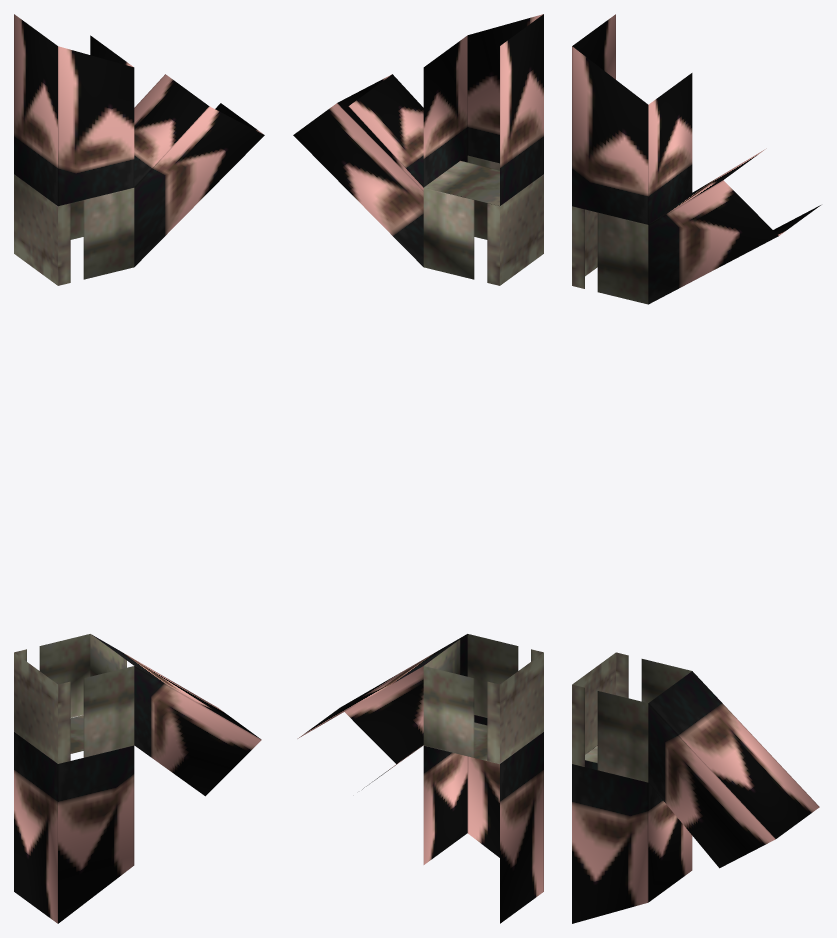
3 views of the same model, side by side, from view 1: azimuth 30°, elevation 25°; view 2: azimuth 150°, elevation 25°; view 3: azimuth 330°, elevation 25° (orthographic).
Visible parts, largest first — view 1: T1L7M004_12; view 2: T1L7M004_12; view 3: T1L7M004_12.
Boxes of the visible parts, x1,y1,x2,y2 form: T1L7M004_12: [14, 14, 264, 923]; T1L7M004_12: [293, 14, 543, 923]; T1L7M004_12: [572, 14, 820, 923].
Size of the model in its own units: 1.08 by 4.4 by 0.3994.
